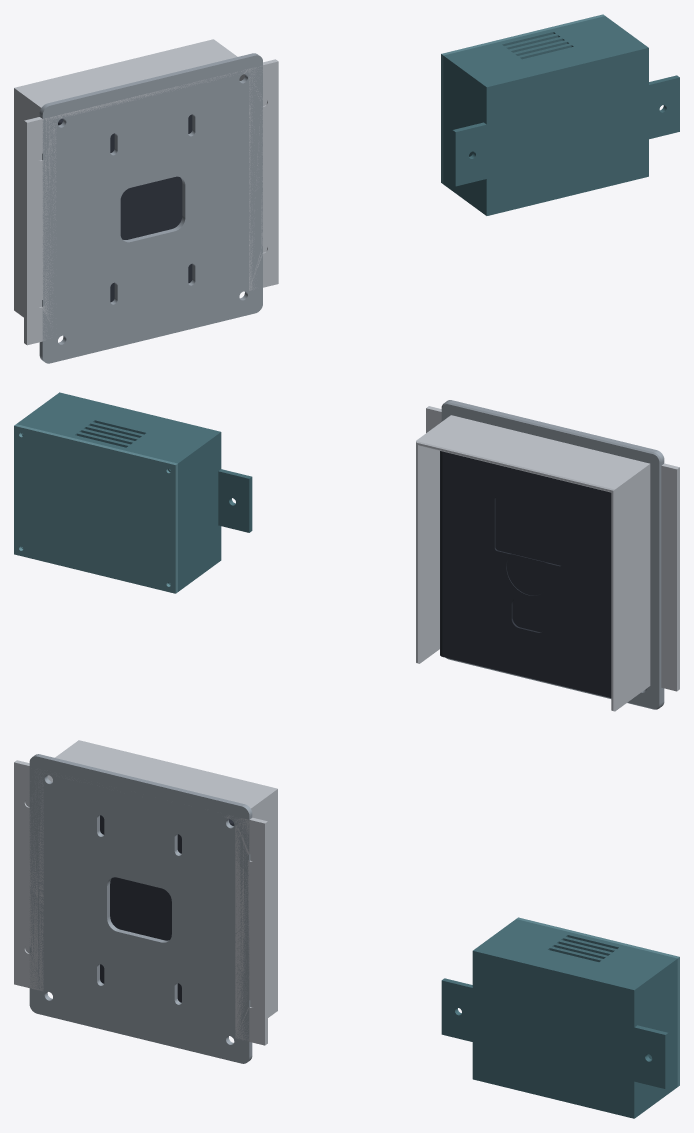
The model's file is attendance_capture_point.glb.
3 views of the same model, one above another, from view 1: azimuth 30°, elevation 25°; view 2: azimuth 150°, elevation 25°; view 3: azimuth 330°, elevation 25° (orthographic).
Parts seen in each view (by area): view 1: backplate, node_base, shroud, terminal, node_lid; view 2: terminal, shroud, node_lid, node_base, backplate; view 3: backplate, node_base, shroud, terminal, node_lid.
Part boxes in pixels (bbox=[...]): backplate: bbox=[39, 53, 262, 363]; node_base: bbox=[443, 16, 679, 215]; shroud: bbox=[14, 39, 278, 345]; terminal: bbox=[58, 114, 192, 302]; node_lid: bbox=[441, 14, 604, 183]; terminal: bbox=[440, 451, 611, 697]; shroud: bbox=[416, 406, 679, 711]; node_lid: bbox=[14, 424, 177, 593]; node_base: bbox=[16, 392, 252, 591]; backplate: bbox=[441, 400, 664, 709]; backplate: bbox=[29, 754, 252, 1063]; node_base: bbox=[441, 919, 677, 1118]; shroud: bbox=[14, 740, 277, 1045]; terminal: bbox=[100, 815, 234, 1002]; node_lid: bbox=[516, 917, 679, 1086].
Size of the model in its own units: 0.5035 by 0.19 by 0.061.
